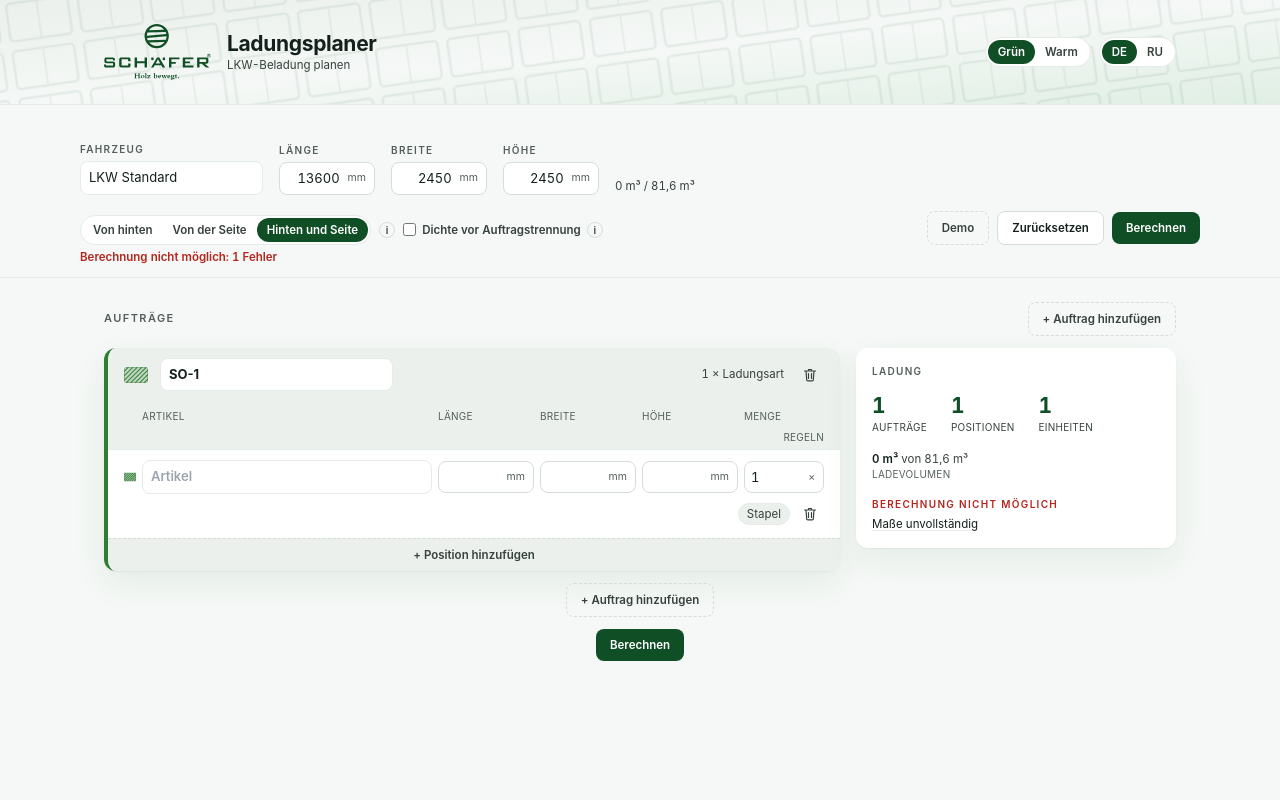
SetupScreen — deep-link импорта заказа (s17) › deepLinkDoneRef защищает от повторного импорта, если черновик правят, пока запрос висит (F1)
The image size is (1280, 800).
Click the 1st button "+ Auftrag hinzufügen".
click(1102, 319)  # box top-left (1028, 302), bottom-right (1176, 336)
(page scrolled)
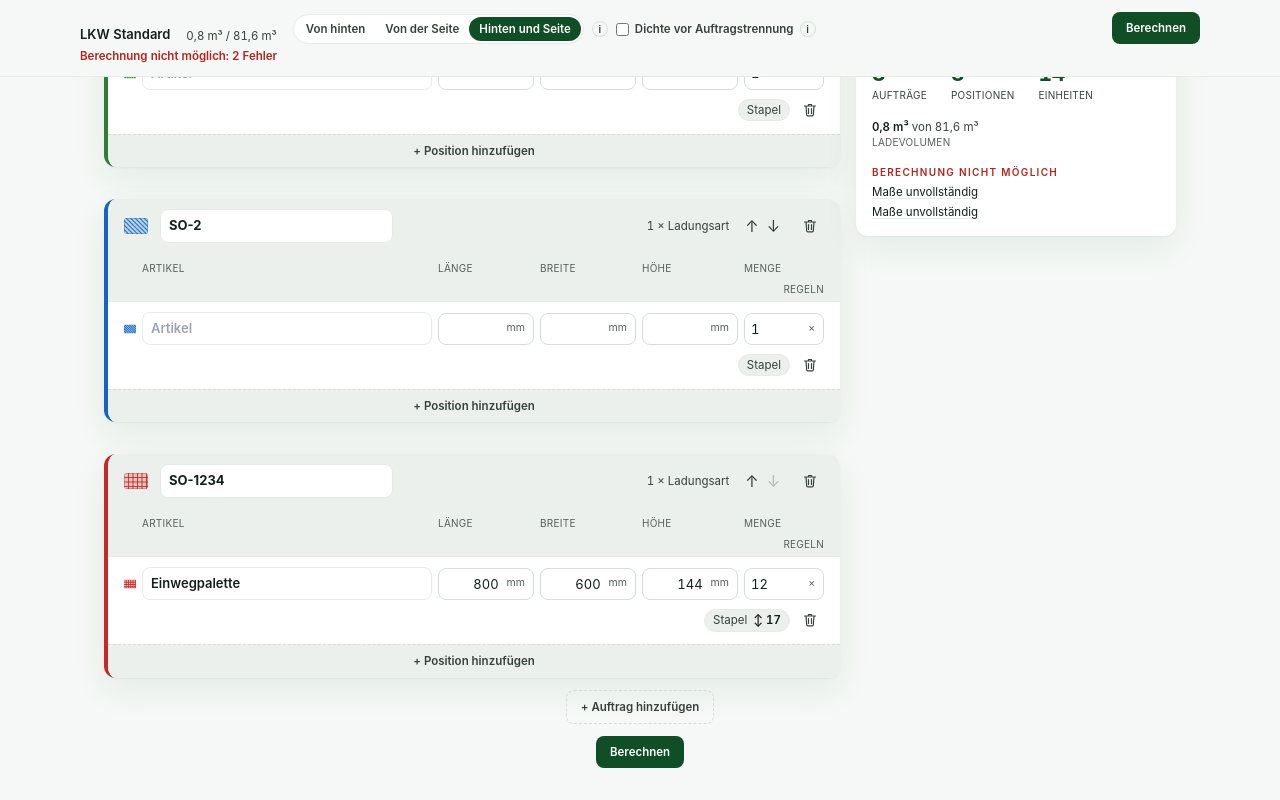
Expected: the 2nd field showing "SO-1234" is shown, top-left (160, 464), bottom-right (393, 498)
